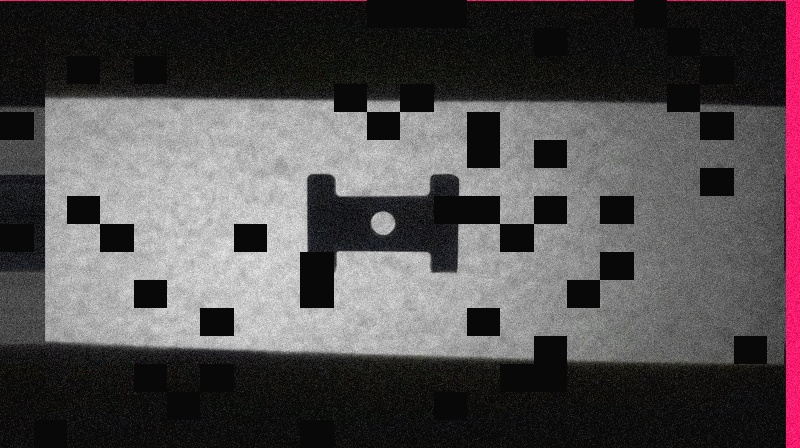O002: (303, 170, 461, 274)
